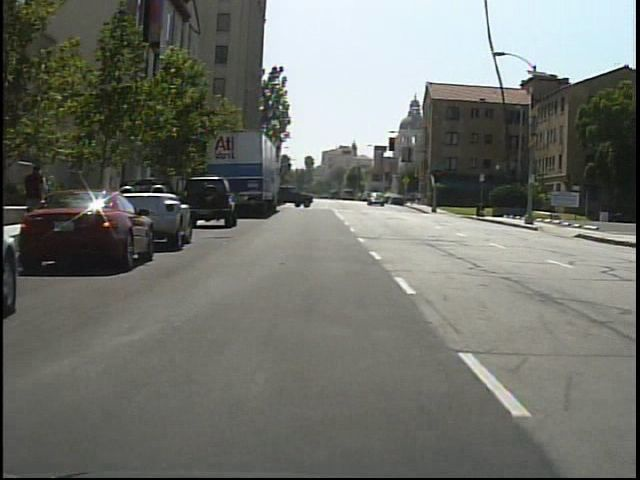person: (22, 161, 52, 240), (27, 167, 56, 226)
